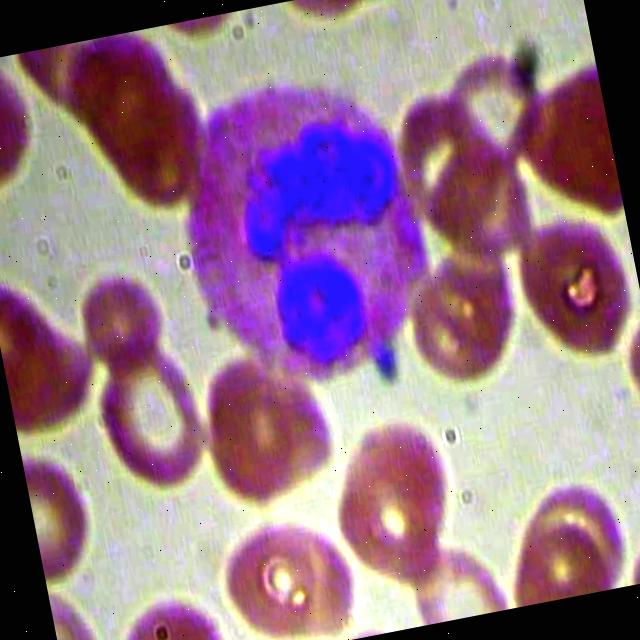RBC: (183, 339, 344, 514), (502, 189, 640, 370), (318, 418, 466, 584), (206, 497, 366, 640), (392, 231, 526, 393), (88, 336, 216, 500), (68, 258, 170, 376), (18, 435, 97, 587), (400, 532, 513, 628), (0, 52, 47, 207), (103, 583, 230, 640)
WBC: (150, 52, 448, 404)
